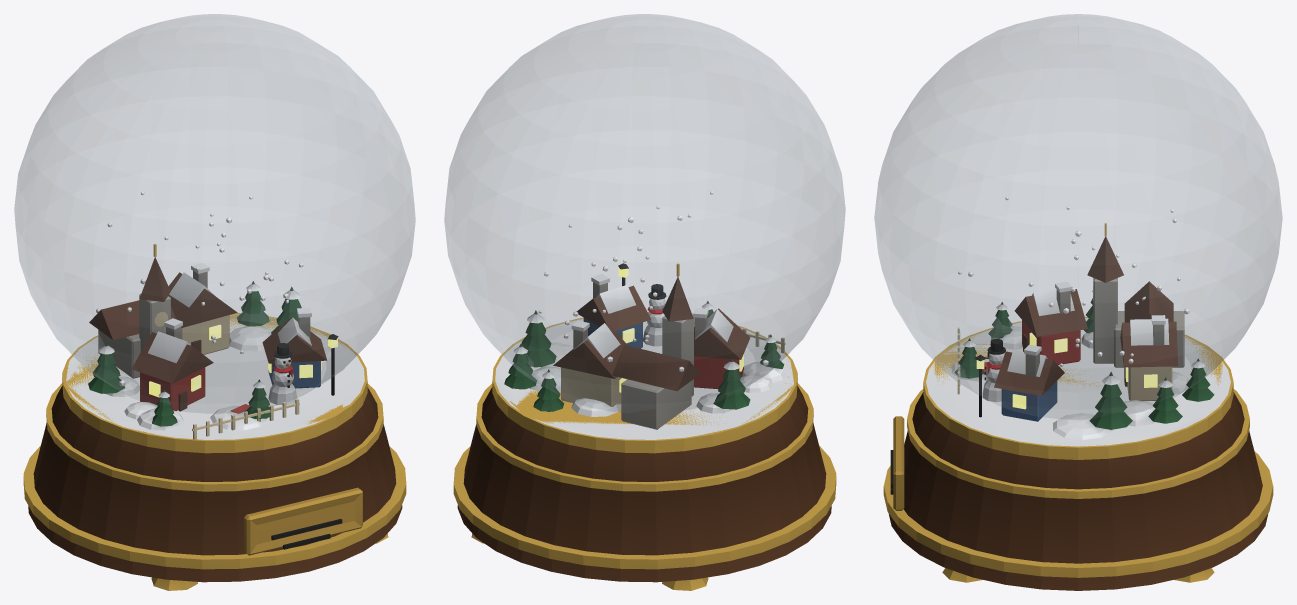
Rendered from snow_globe.glb.
3 renders of one model, left to right at view 1: azimuth 30°, elevation 25°; view 2: azimuth 150°, elevation 25°; view 3: azimuth 270°, elevation 25°, orthographic.
Parts seen in each view (by area): view 1: snow_globe; view 2: snow_globe; view 3: snow_globe.
Part boxes in pixels (x1=…): snow_globe: x1=14, y1=14, x2=415, y2=590; snow_globe: x1=444, y1=14, x2=845, y2=590; snow_globe: x1=874, y1=14, x2=1282, y2=590.
Size of the model in its own units: 0.15 by 0.1995 by 0.15.
